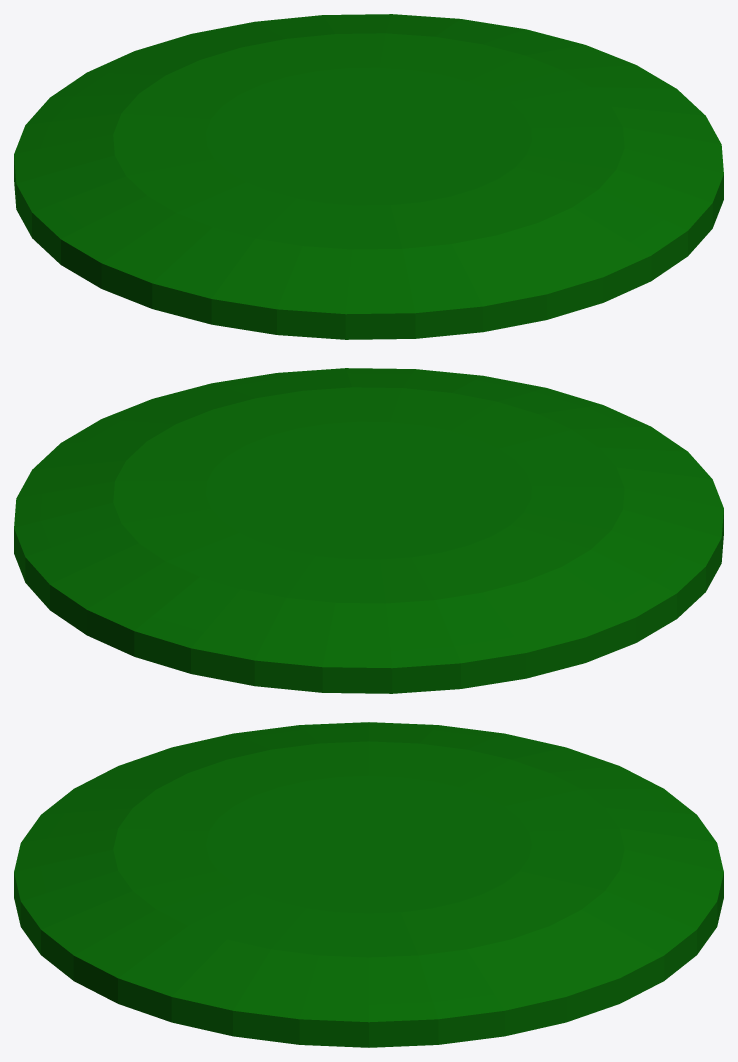
Rendered from TranslucentUIDisc.fbx.
3 views of the same model, one above another, from view 1: azimuth 30°, elevation 25°; view 2: azimuth 150°, elevation 25°; view 3: azimuth 270°, elevation 25° (orthographic).
Visible parts, largest first — view 1: Cylinder; view 2: Cylinder; view 3: Cylinder.
Boxes of the visible parts, left/top/right/bottom form: Cylinder: left=14, top=14, right=723, bottom=339; Cylinder: left=14, top=368, right=723, bottom=693; Cylinder: left=14, top=722, right=723, bottom=1047.
Bounding box in the file's own units: 200 × 16.49 × 200.
